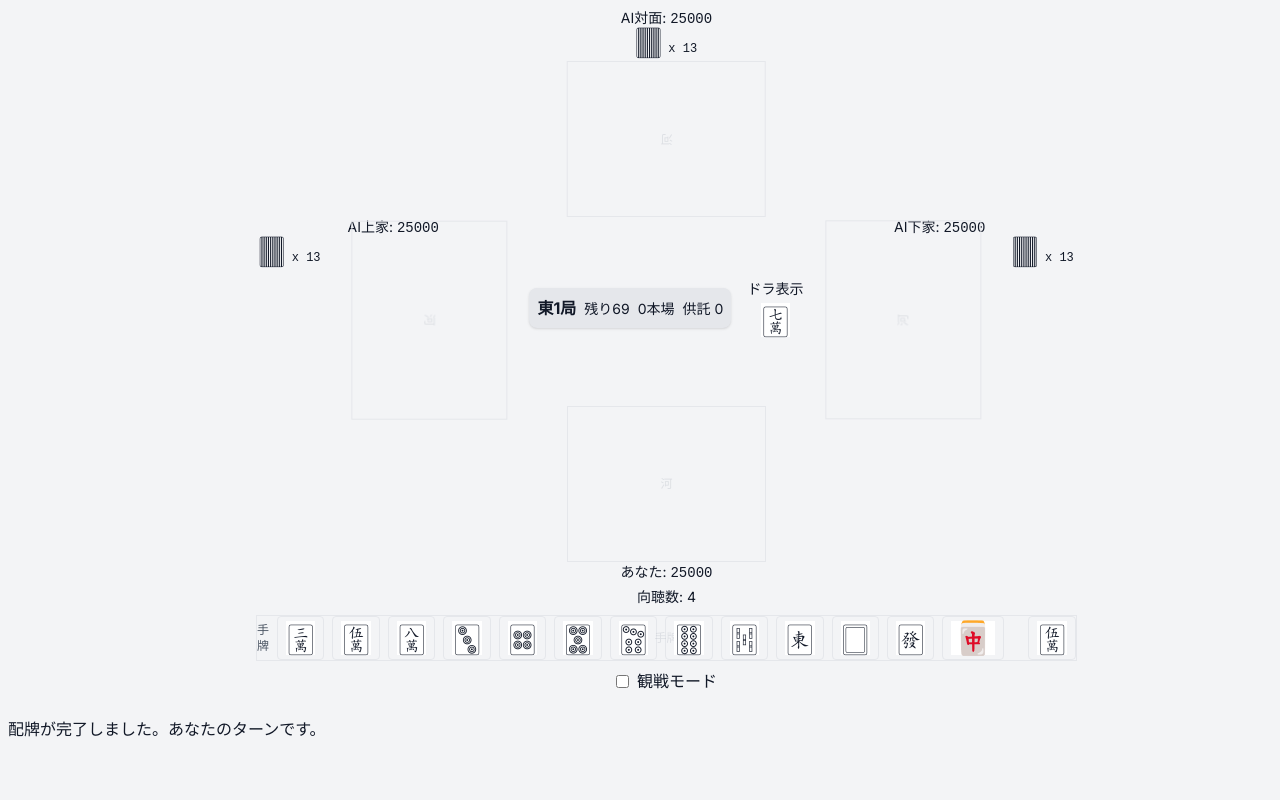
Test: GameController auto play › AI discards when toggled during player turn
The image size is (1280, 800).
Click the checkbox labelled "観戦モード" at {"x": 622, "y": 681}, box [616,674,629,688]
Wait 600 ms
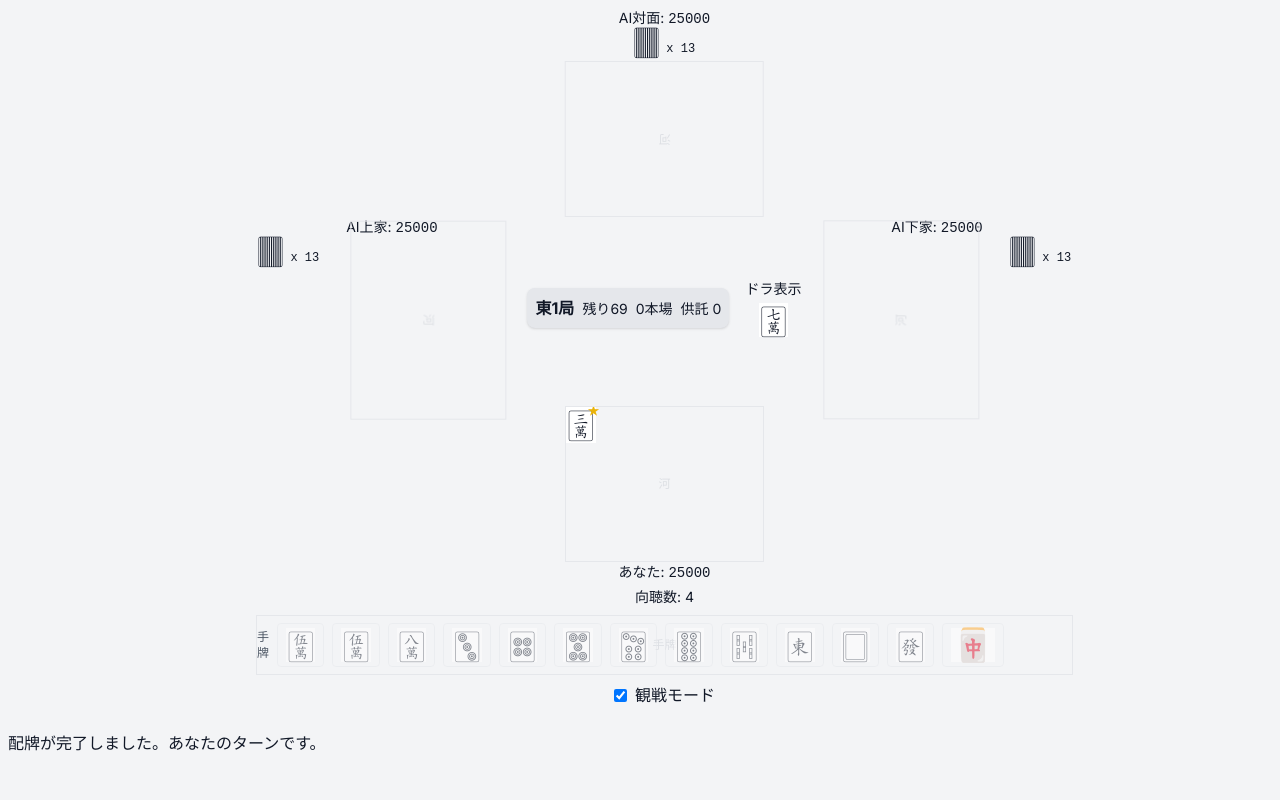
Result: the text "★" is shown at [588,406,600,419]
